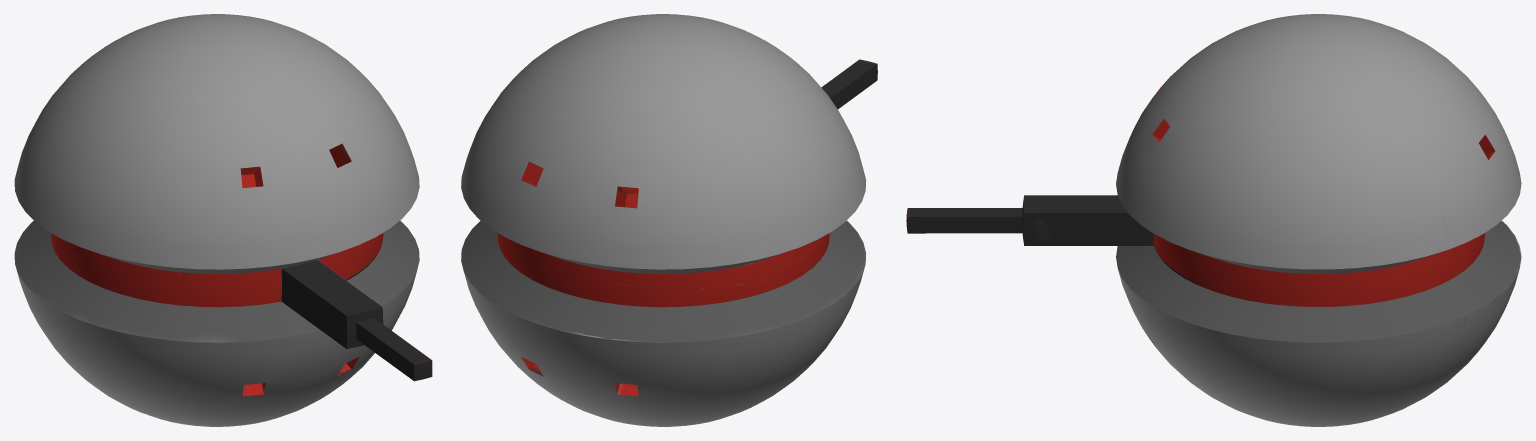
File: turret_weapon.obj
3 renders of one model, left to right at view 1: azimuth 30°, elevation 25°; view 2: azimuth 150°, elevation 25°; view 3: azimuth 270°, elevation 25°, orthographic.
Parts seen in each view (by area): view 1: Sphere; view 2: Sphere; view 3: Sphere.
Boxes of the visible parts, bbox=[...] form: Sphere: bbox=[14, 14, 432, 426]; Sphere: bbox=[461, 14, 877, 426]; Sphere: bbox=[906, 14, 1521, 426].
Bounding box in the file's own units: 1.12 × 1.14 × 1.7.
